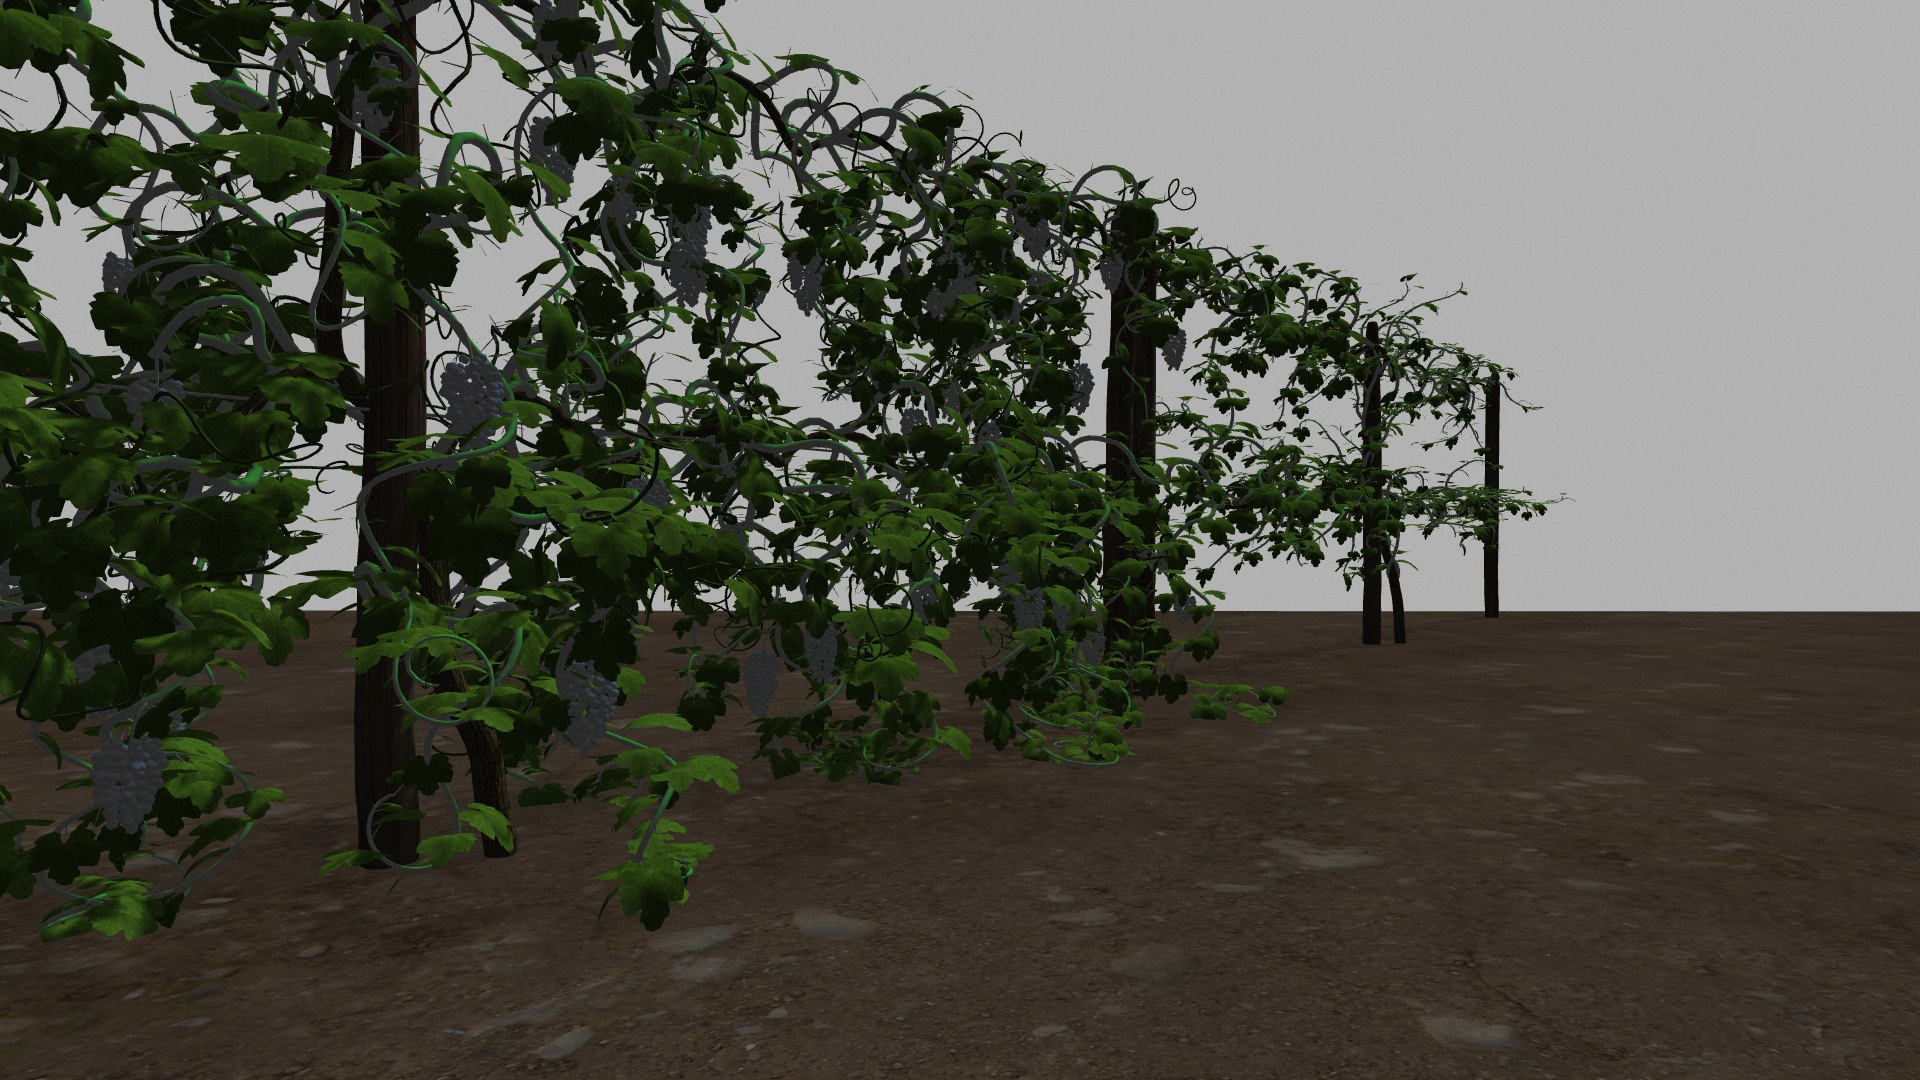grape: (88, 737, 169, 835), (439, 352, 505, 448), (562, 662, 618, 756), (344, 55, 400, 138), (928, 255, 977, 319), (531, 3, 580, 65), (669, 237, 709, 309), (785, 244, 824, 315), (742, 651, 781, 723), (800, 620, 839, 682), (1015, 200, 1054, 261), (675, 198, 713, 245), (1011, 584, 1044, 636), (545, 153, 574, 210), (527, 113, 554, 171), (1068, 361, 1095, 415), (909, 580, 938, 625), (899, 407, 928, 448), (1098, 251, 1125, 295), (1160, 326, 1185, 371), (1051, 597, 1081, 633), (1080, 626, 1106, 667), (1172, 593, 1197, 625)
